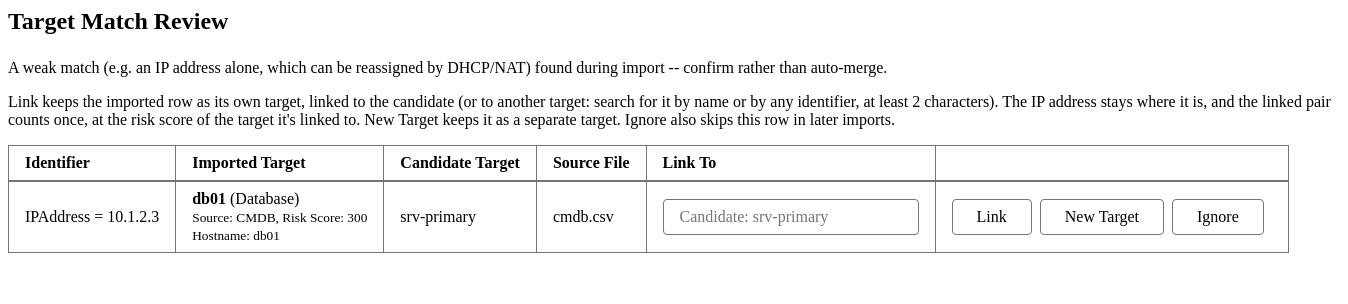
Scenario: TargetMatchReview.vue › UI review W4-4: feedback and a safeguard › a refused resolution says nothing was decided, and the earlier message goes
Click the button "Link": (992, 217) [952,199,1032,235]
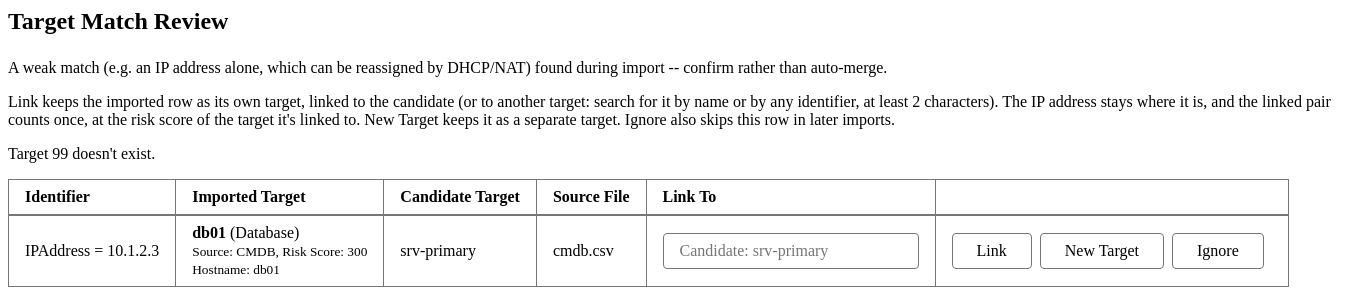
Now the message "Target 99 doesn't exist." is shown, box [8,145,155,162]
